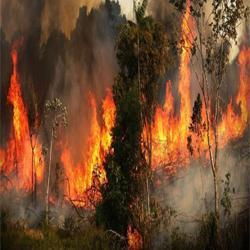fire: (151, 112, 187, 166), (60, 153, 107, 191), (10, 88, 26, 178), (90, 96, 116, 144), (216, 106, 247, 142), (181, 51, 192, 115)
